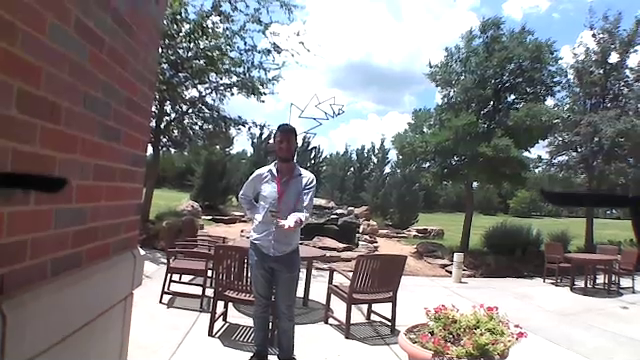land: (271, 211, 309, 238)
